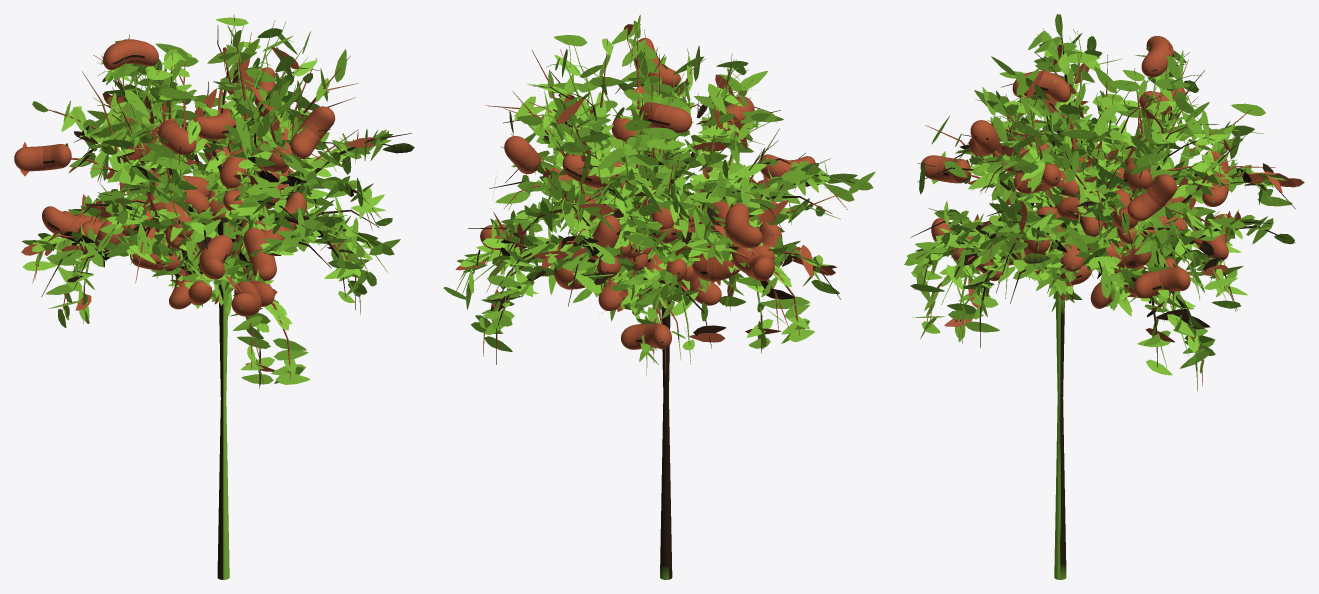
File: Tree.fbx
3 renders of one model, left to right at view 1: azimuth 30°, elevation 25°; view 2: azimuth 150°, elevation 25°; view 3: azimuth 270°, elevation 25°, orthographic.
Parts seen in each view (by area): view 1: Cylinder.003; view 2: Cylinder.003; view 3: Cylinder.003.
Part boxes in pixels (left/top/right/bottom): Cylinder.003: left=14, top=14, right=414, bottom=579; Cylinder.003: left=443, top=14, right=875, bottom=579; Cylinder.003: left=904, top=14, right=1304, bottom=579.
Size of the model in its own units: 303 by 435 by 293.
Materials: 1 (1 with a texture image).
